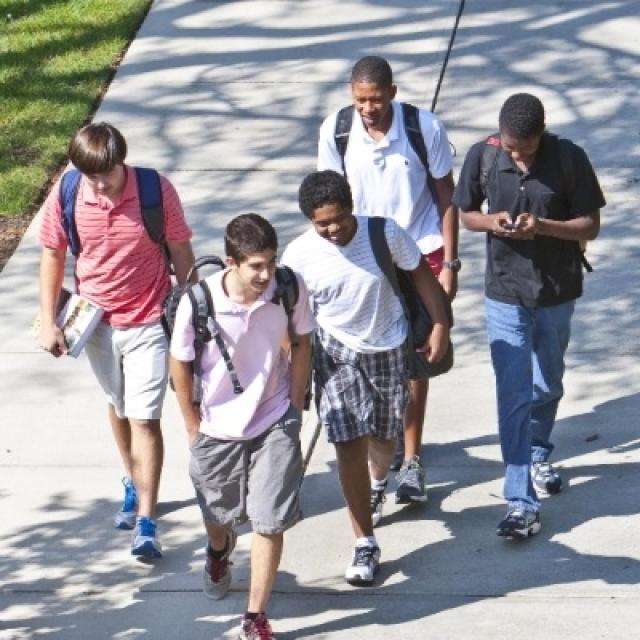body: (268, 165, 462, 592), (32, 112, 208, 566), (444, 88, 610, 547), (155, 206, 323, 638), (310, 48, 460, 478)
